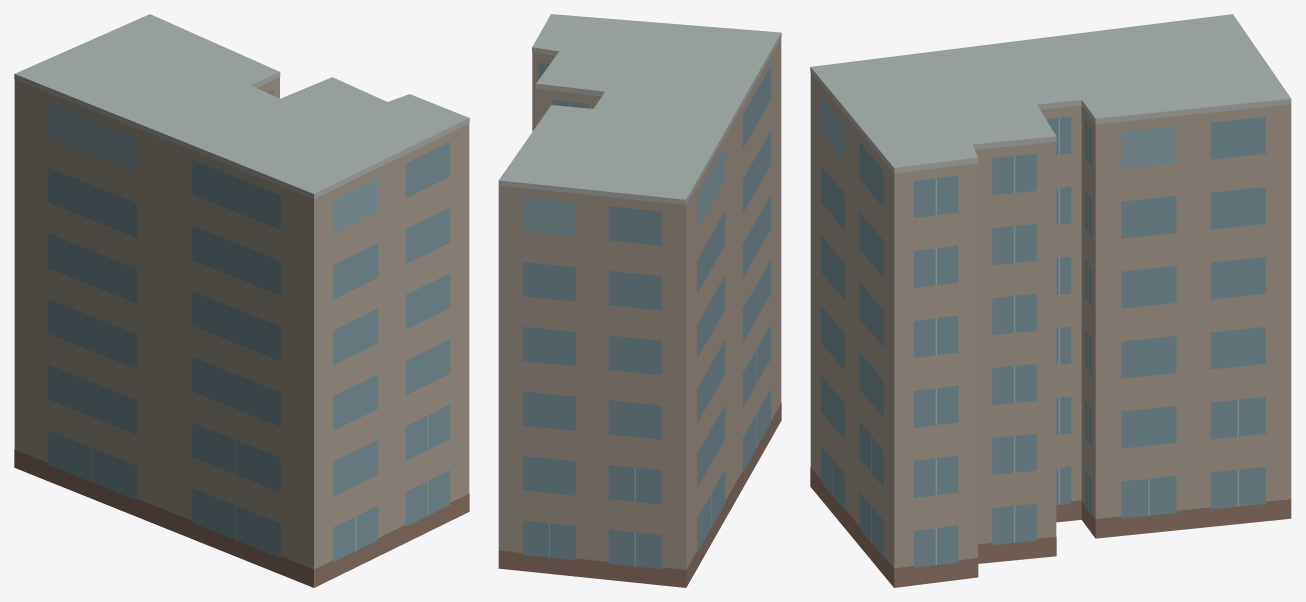
Rendered from survey-upis-32565436.glb.
3 views of the same model, side by side, from view 1: azimuth 30°, elevation 25°; view 2: azimuth 150°, elevation 25°; view 3: azimuth 270°, elevation 25° (orthographic). The views are drawn at different scales.
Parts seen in each view (by area): view 1: survey-upis-32565436.tmp; view 2: survey-upis-32565436.tmp; view 3: survey-upis-32565436.tmp.
Part boxes in pixels (<box>): survey-upis-32565436.tmp: <box>14,14,469,587</box>; survey-upis-32565436.tmp: <box>498,14,781,587</box>; survey-upis-32565436.tmp: <box>810,14,1291,587</box>.
Bounding box in the file's own units: 14.41 × 18.3 × 19.01.
